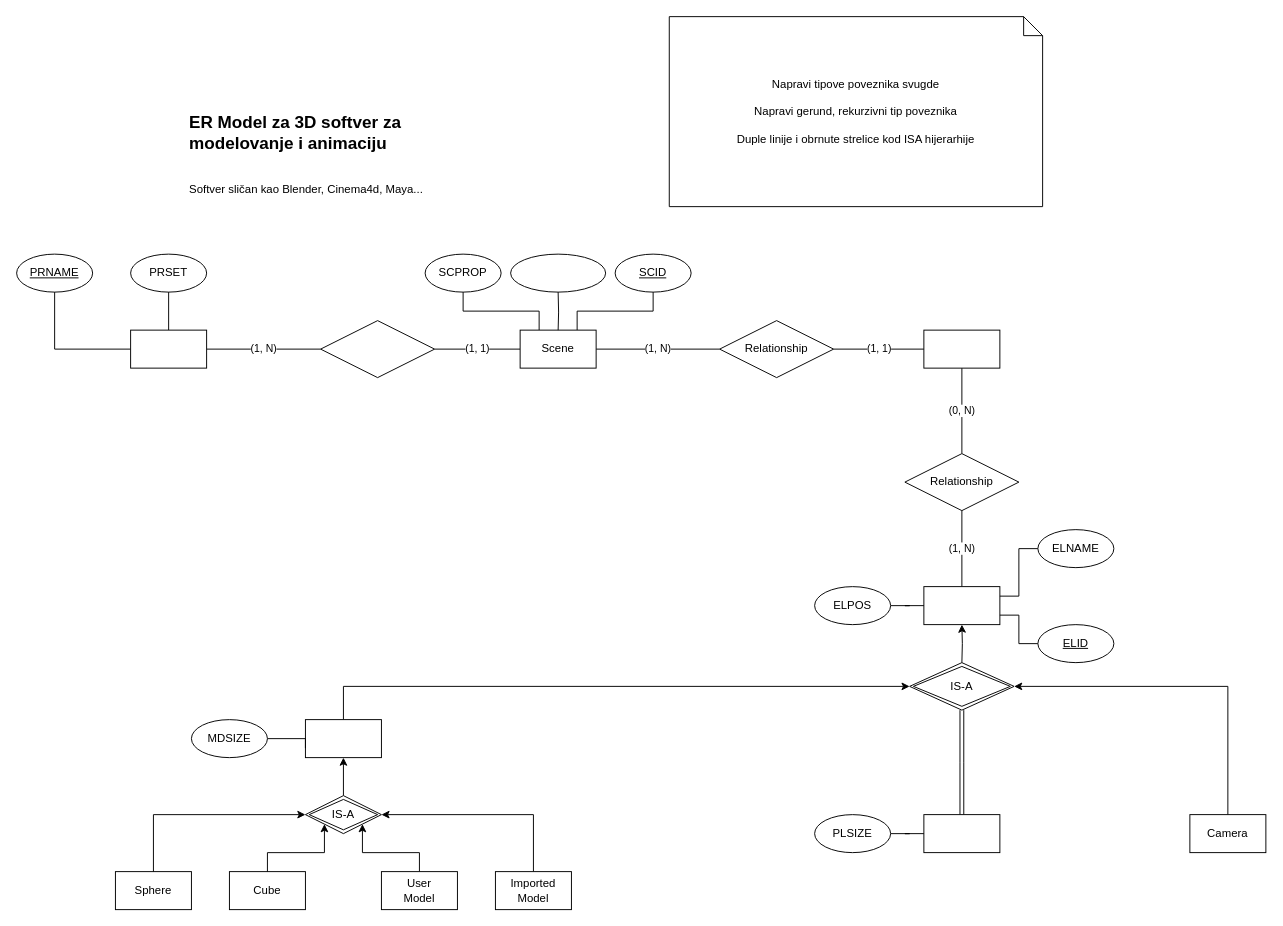
Image size: 1283x926. Some labels were removed from this diagram. Each missing label, with the centre of its shape:
"Collection" belongs at point 961,348.
"Contains" belongs at point 377,349.
"Element" belongs at point 961,605.
"Model" belongs at point 342,738.
"Plane" belongs at point 961,833.
"Project" belongs at point 168,348.
"SCNAME" belongs at point 558,272.
